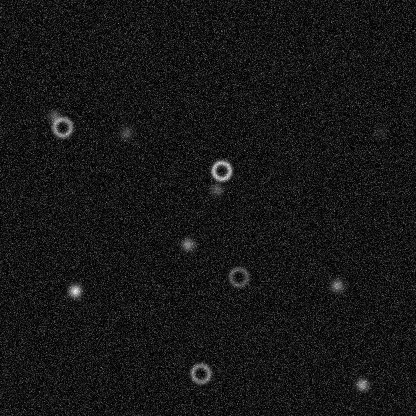Ring: (226, 264, 250, 288), (50, 115, 74, 139), (188, 361, 212, 385), (209, 158, 233, 182)
Spot: (354, 376, 370, 392), (117, 124, 133, 140), (179, 236, 195, 252), (46, 107, 62, 123), (67, 282, 83, 298), (372, 123, 388, 139), (208, 181, 224, 197), (328, 277, 344, 293)
